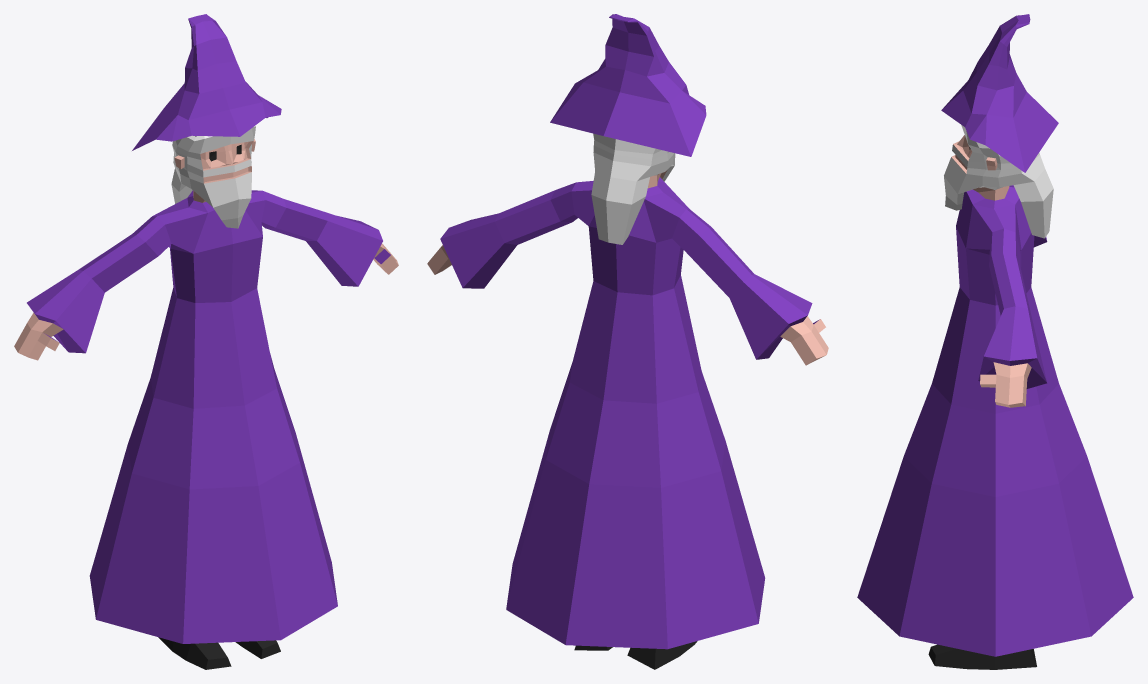
File: purplewizard.fbx
3 renders of one model, left to right at view 1: azimuth 30°, elevation 25°; view 2: azimuth 150°, elevation 25°; view 3: azimuth 270°, elevation 25°, orthographic. The views are drawn at different scales.
Visible parts, largest first — view 1: Cube.001; view 2: Cube.001; view 3: Cube.001.
Boxes of the visible parts, x1,y1,x2,y2 form: Cube.001: [14, 14, 398, 669]; Cube.001: [427, 14, 828, 669]; Cube.001: [857, 14, 1133, 669].
Bounding box in the file's own units: 152 × 234 × 93.04.
Materials: 1 (1 with a texture image).
